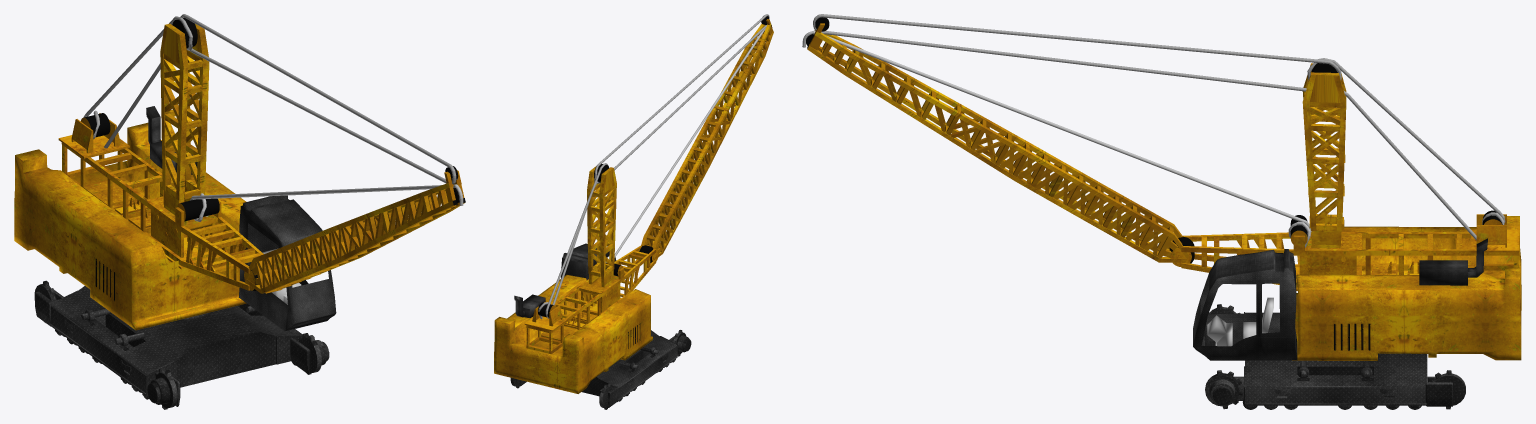
Rendered from crane.obj.
3 views of the same model, side by side, from view 1: azimuth 30°, elevation 25°; view 2: azimuth 150°, elevation 25°; view 3: azimuth 270°, elevation 25° (orthographic). The views are drawn at different scales.
Visible parts, largest first — view 1: PokrywaSilnika_Cube.001, Naped_Cylinder, podstawaramie_Cube.014, ramieruchome_Cube.004, ramiepionowe_Cube.009, Kabina_Plane.001, Cylinder.002_Cylinder.005, Cylinder_Cylinder.001, Wydech_Cube.002; view 2: PokrywaSilnika_Cube.001, ramieruchome_Cube.004, podstawaramie_Cube.014, Naped_Cylinder, ramiepionowe_Cube.009, Cylinder.002_Cylinder.005, Cylinder_Cylinder.001, Kabina_Plane.001, Wydech_Cube.002; view 3: PokrywaSilnika_Cube.001, ramieruchome_Cube.004, Naped_Cylinder, podstawaramie_Cube.014, Kabina_Plane.001, ramiepionowe_Cube.009, Cylinder.002_Cylinder.005, Cylinder_Cylinder.001, Wydech_Cube.002.
Boxes of the visible parts, x1=… form: PokrywaSilnika_Cube.001: x1=14, y1=122, x2=246, y2=330; Naped_Cylinder: x1=34, y1=280, x2=329, y2=409; podstawaramie_Cube.014: x1=58, y1=113, x2=263, y2=290; ramieruchome_Cube.004: x1=245, y1=166, x2=465, y2=293; ramiepionowe_Cube.009: x1=160, y1=17, x2=209, y2=215; Kabina_Plane.001: x1=238, y1=195, x2=336, y2=331; Cylinder.002_Cylinder.005: x1=83, y1=14, x2=456, y2=184; Cylinder_Cylinder.001: x1=190, y1=184, x2=463, y2=221; Wydech_Cube.002: x1=146, y1=106, x2=197, y2=174; PokrywaSilnika_Cube.001: x1=494, y1=274, x2=652, y2=393; ramieruchome_Cube.004: x1=639, y1=16, x2=773, y2=263; podstawaramie_Cube.014: x1=524, y1=245, x2=658, y2=353; Naped_Cylinder: x1=510, y1=330, x2=691, y2=409; ramiepionowe_Cube.009: x1=587, y1=164, x2=616, y2=287; Cylinder.002_Cylinder.005: x1=538, y1=14, x2=769, y2=319; Cylinder_Cylinder.001: x1=605, y1=23, x2=771, y2=262; Kabina_Plane.001: x1=561, y1=243, x2=616, y2=279; Wydech_Cube.002: x1=514, y1=294, x2=545, y2=317; PokrywaSilnika_Cube.001: x1=1292, y1=216, x2=1521, y2=360; ramieruchome_Cube.004: x1=806, y1=17, x2=1194, y2=263; Naped_Cylinder: x1=1205, y1=304, x2=1465, y2=409; podstawaramie_Cube.014: x1=1170, y1=210, x2=1519, y2=290; Kabina_Plane.001: x1=1193, y1=249, x2=1297, y2=360; ramiepionowe_Cube.009: x1=1302, y1=63, x2=1346, y2=247; Cylinder.002_Cylinder.005: x1=813, y1=14, x2=1505, y2=240; Cylinder_Cylinder.001: x1=802, y1=31, x2=1311, y2=247; Wydech_Cube.002: x1=1419, y1=238, x2=1487, y2=285.
Bounding box in the file's own units: 2.12 × 4.52 × 8.14.
